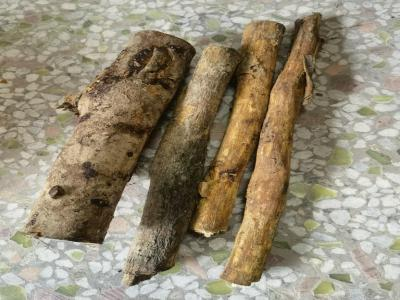Root: (123, 13, 320, 286), (22, 30, 195, 244)
